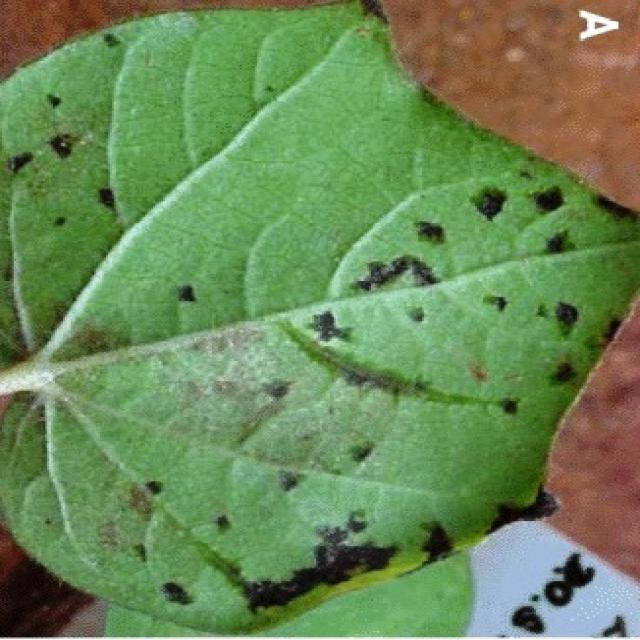Bacterial Blight: (258, 158, 597, 552)
